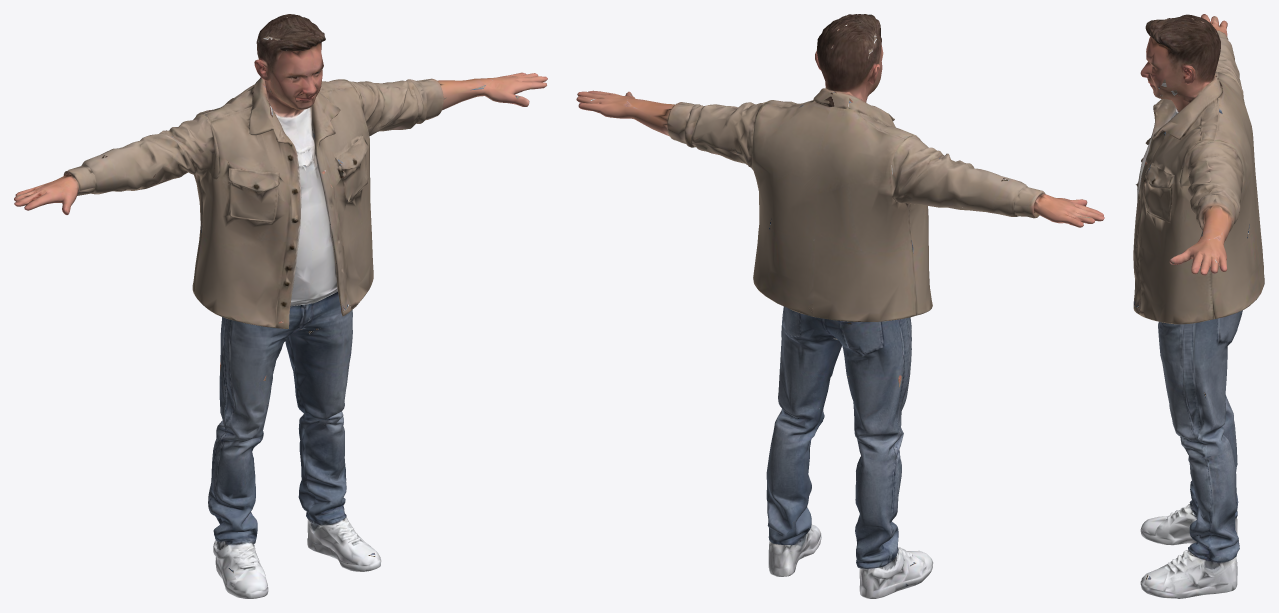
File: ben.glb
3 renders of one model, left to right at view 1: azimuth 30°, elevation 25°; view 2: azimuth 150°, elevation 25°; view 3: azimuth 270°, elevation 25°, orthographic.
Parts seen in each view (by area): view 1: model; view 2: model; view 3: model.
Part boxes in pixels (x1,y1,x2,y2): model: (14,14,547,598); model: (576,14,1104,598); model: (1133,14,1264,598).
Bounding box in the file's own units: 0.9835 × 0.9797 × 0.2135.
Materials: 1 (1 with a texture image).
